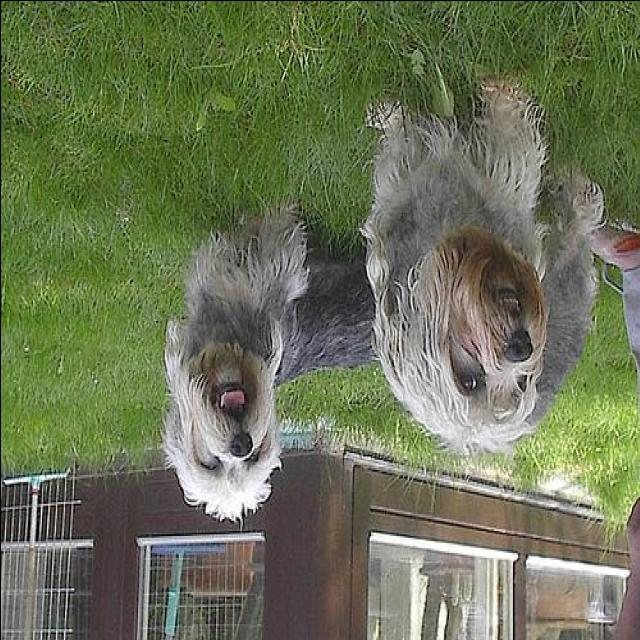dandie_dinmont: (354, 69, 606, 459), (162, 193, 376, 518)
